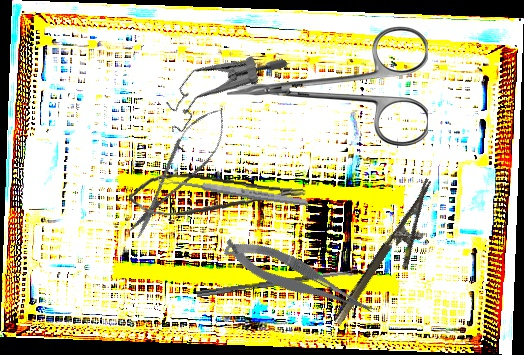Iris Scissors: (227, 26, 428, 146)
Micro Scissor: (218, 223, 380, 336), (117, 97, 239, 247), (126, 168, 307, 229)
Needle Holder: (331, 178, 455, 338)
Speculum: (153, 18, 290, 163)
Surgical Spoon: (157, 174, 309, 208), (196, 268, 358, 299)
